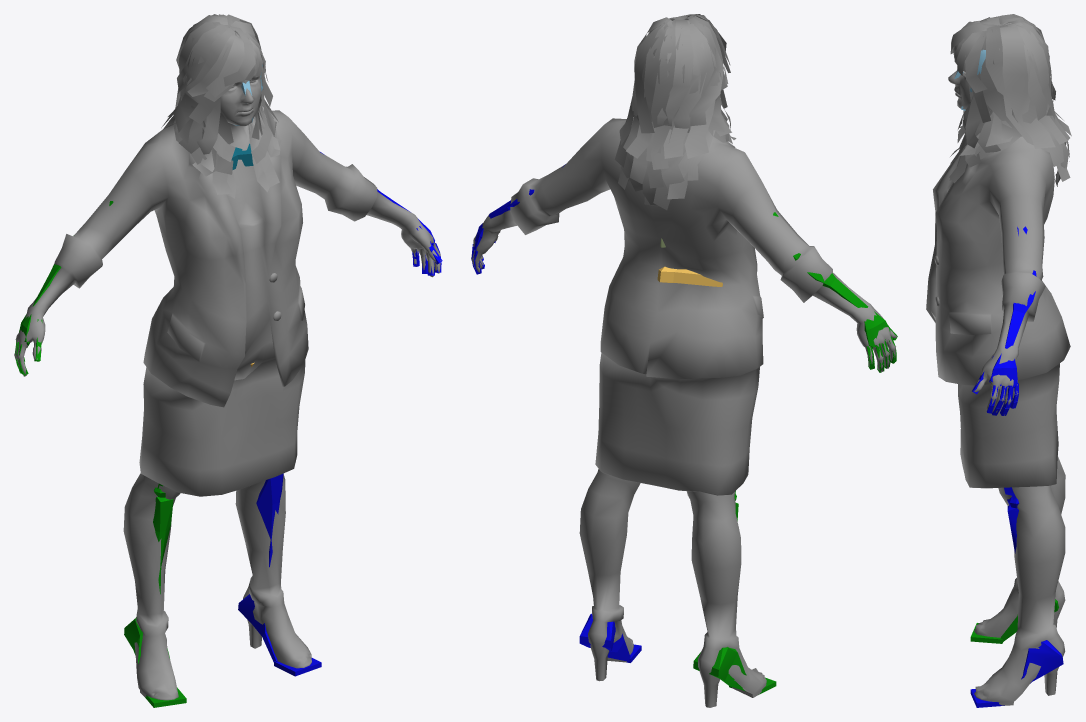
3 views of the same model, side by side, from view 1: azimuth 30°, elevation 25°; view 2: azimuth 150°, elevation 25°; view 3: azimuth 270°, elevation 25° (orthographic).
Parts seen in each view (by area): view 1: BWom0001_M3_Body, BWom0001_M3_Hair, Bip01_L_Calf, Bip01_R_Calf; view 2: BWom0001_M3_Body, BWom0001_M3_Hair, Bip01_R_Foot, Bip01_L_Foot, Bip01_Spine1, Bip01_R_Forearm; view 3: BWom0001_M3_Body, BWom0001_M3_Hair, Bip01_L_Foot, Bip01_L_Forearm, Bip01_L_Hand, Bip01_L_Calf, Bip01_R_Toe0.
Boxes of the visible parts, x1,y1,x2,y2 form: BWom0001_M3_Body: (14,70,441,700); BWom0001_M3_Hair: (161,14,281,198); Bip01_L_Calf: (256,473,283,567); Bip01_R_Calf: (153,487,173,594); BWom0001_M3_Body: (471,31,897,707); BWom0001_M3_Hair: (614,14,736,210); Bip01_R_Foot: (693,647,746,691); Bip01_L_Foot: (579,613,630,661); Bip01_Spine1: (657,238,722,286); Bip01_R_Forearm: (793,253,868,307); BWom0001_M3_Body: (926,29,1070,705); BWom0001_M3_Hair: (949,14,1071,186); Bip01_L_Foot: (1021,640,1063,683); Bip01_L_Forearm: (1005,270,1036,348); Bip01_L_Hand: (989,353,1017,387); Bip01_L_Calf: (1007,497,1019,553); Bip01_R_Toe0: (970,623,1002,643).
Size of the model in its own units: 1.17 by 1.74 by 0.3534.
